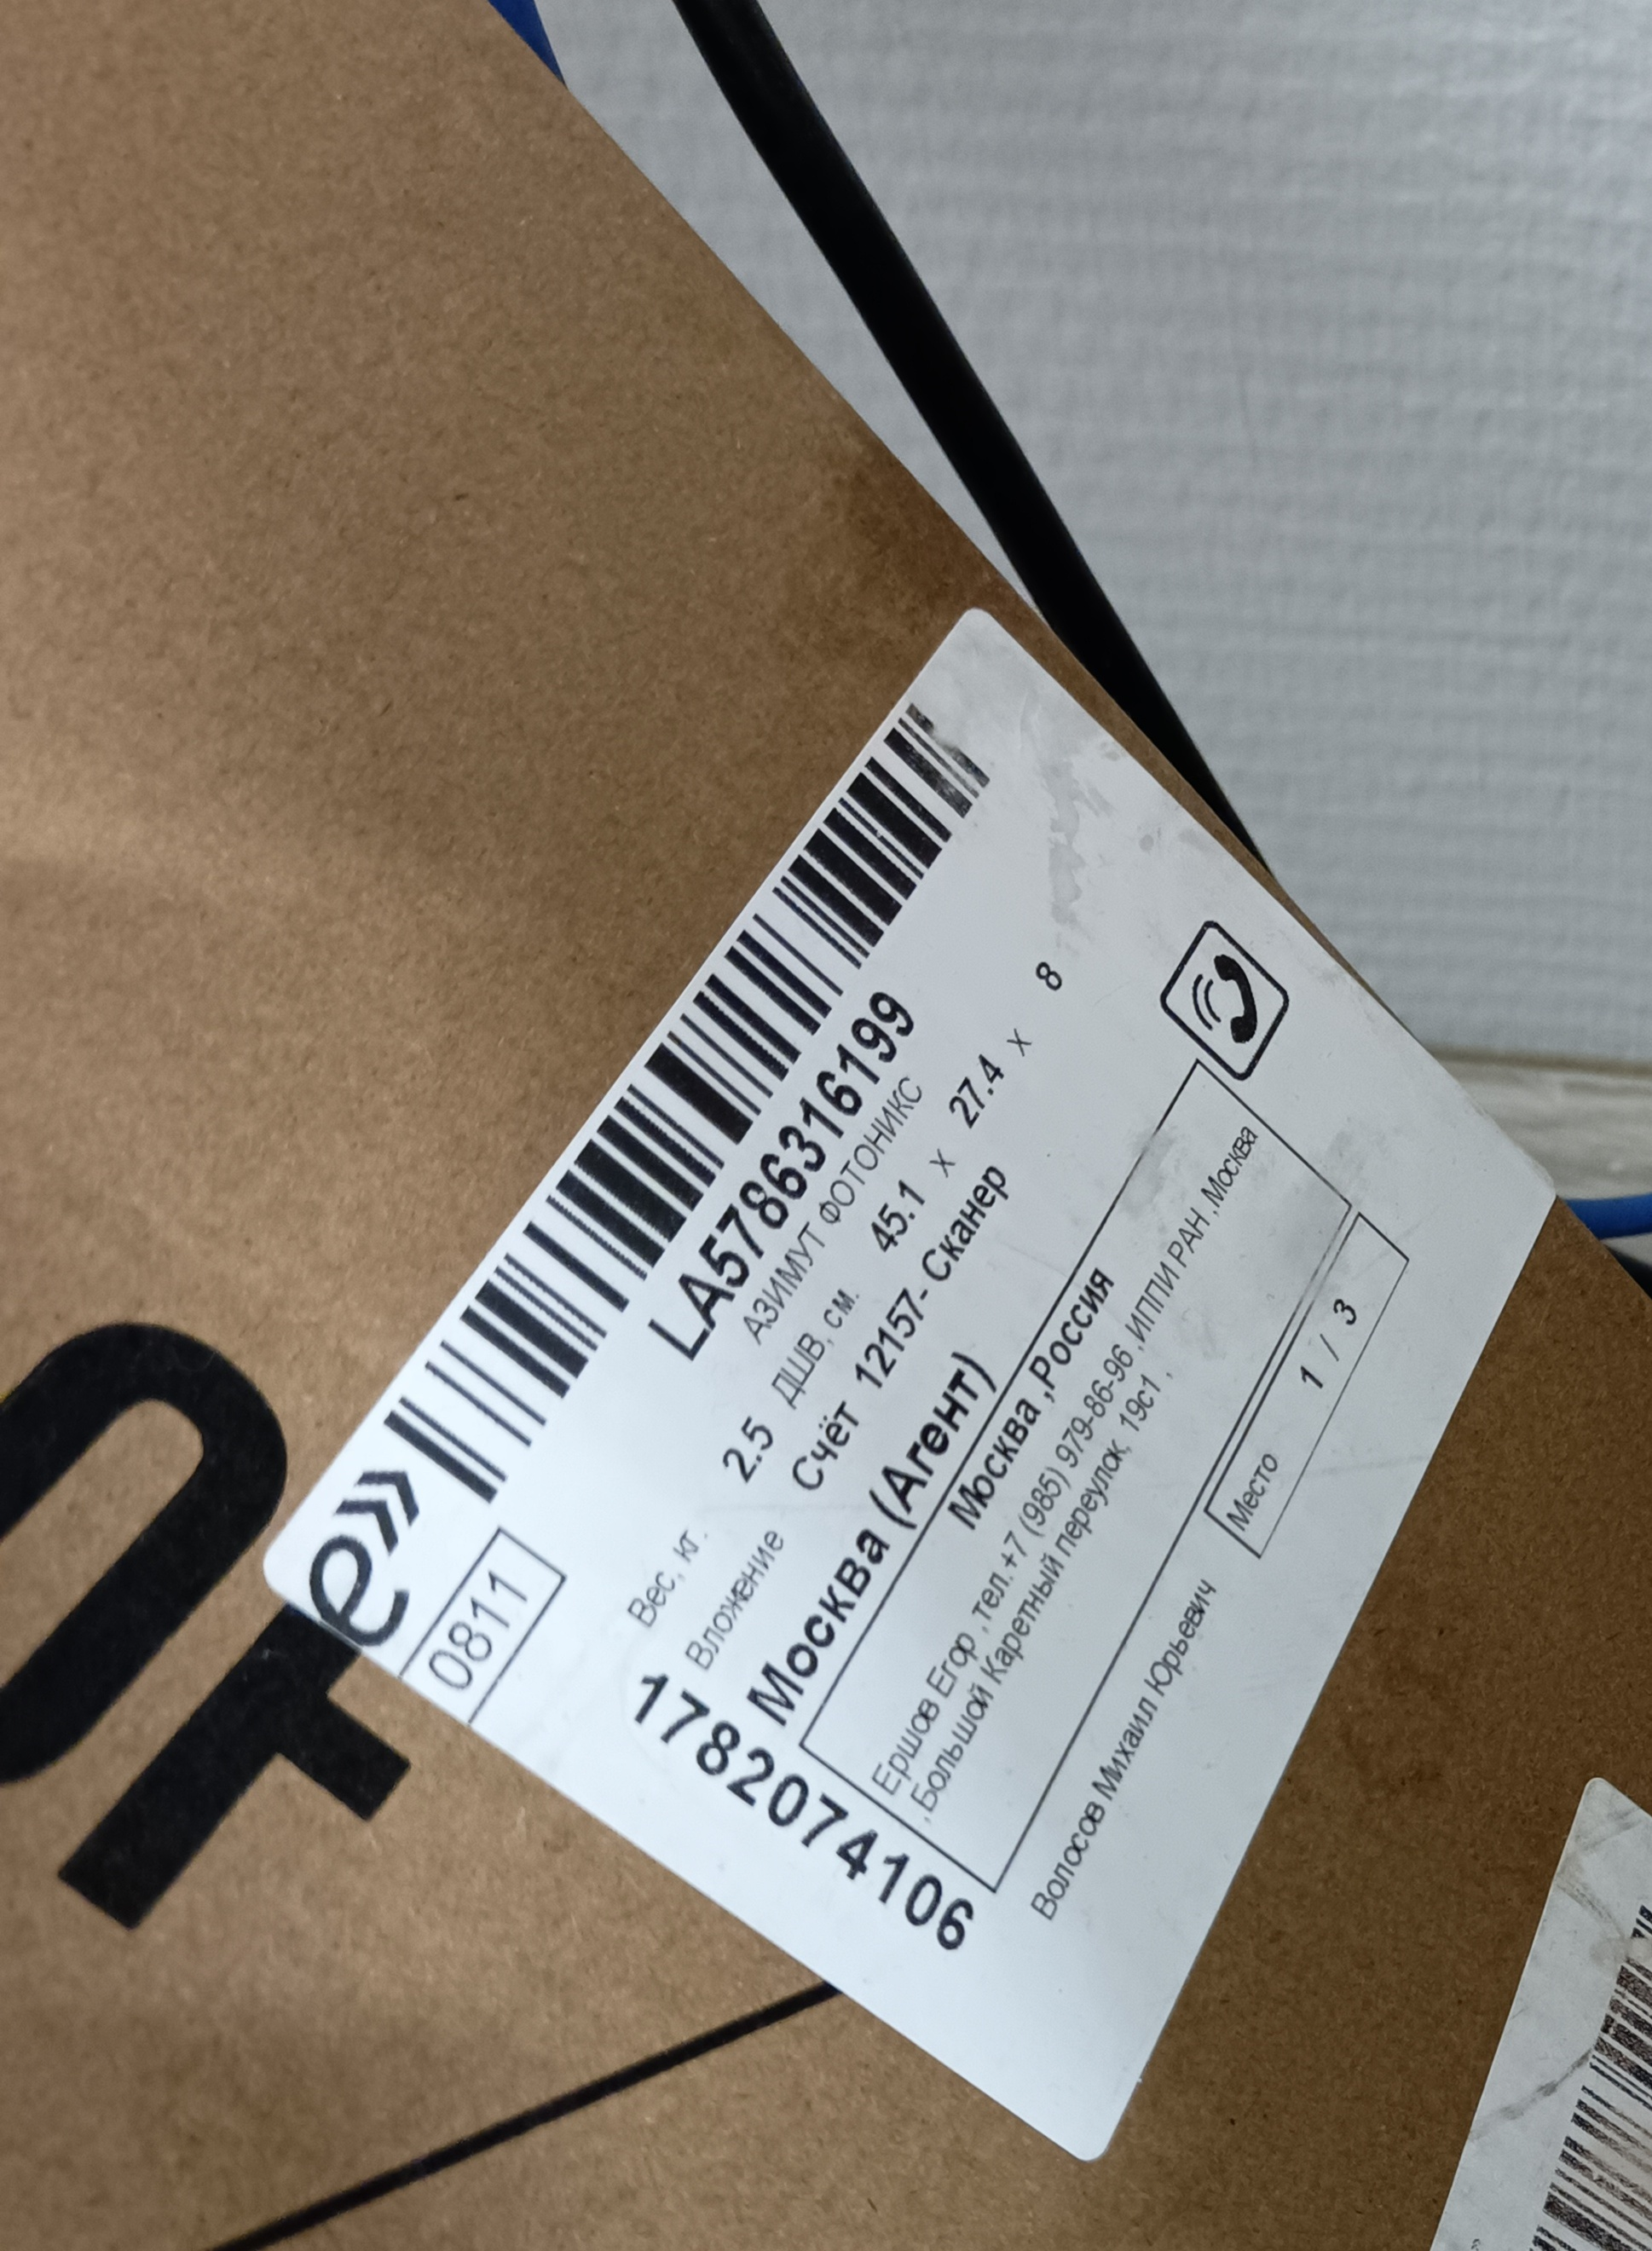1d: (378, 704, 996, 1500)
